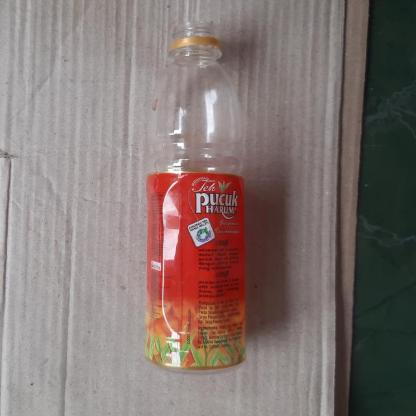Plastic Bottle: (142, 22, 248, 380)
